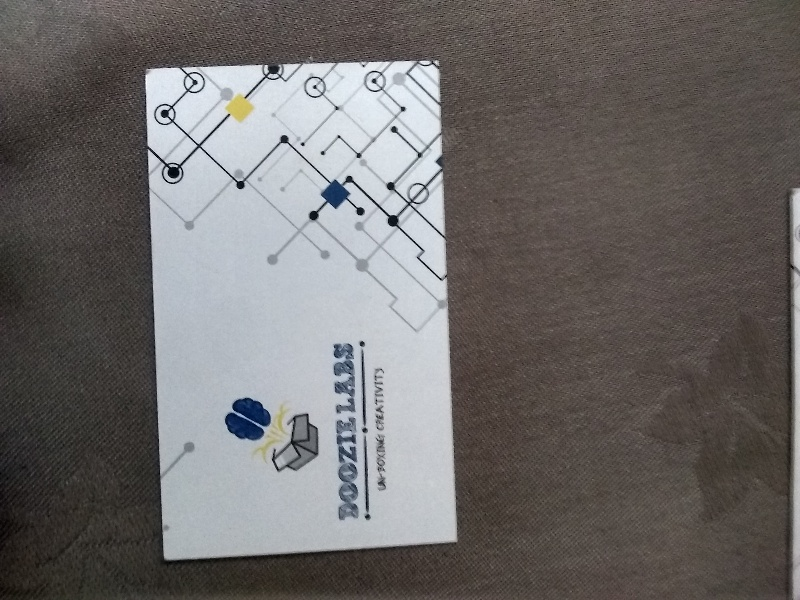back: (138, 61, 464, 562)
